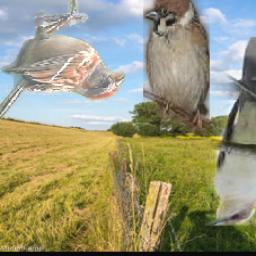Cuckoo: (206, 37, 256, 226)
Sparrow: (0, 0, 125, 127), (144, 0, 211, 131)
